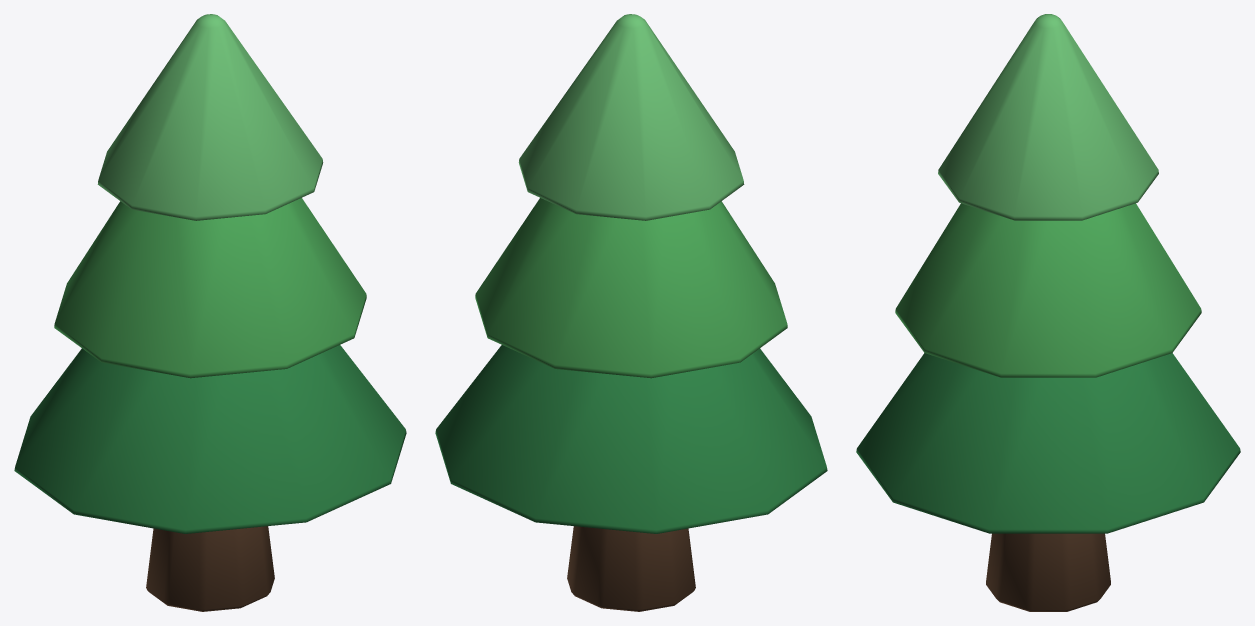
The model's file is tree-layered.glb.
The picture shows the model from 3 angles, left to right: view 1: azimuth 30°, elevation 25°; view 2: azimuth 150°, elevation 25°; view 3: azimuth 270°, elevation 25°; orthographic projection.
Visible parts, largest first — view 1: tree-layered; view 2: tree-layered; view 3: tree-layered.
Part boxes in pixels (<box>): tree-layered: <box>14,14,406,611</box>; tree-layered: <box>435,14,827,611</box>; tree-layered: <box>856,14,1240,611</box>.
Bounding box in the file's own units: 1.1 × 1.8 × 1.1.
